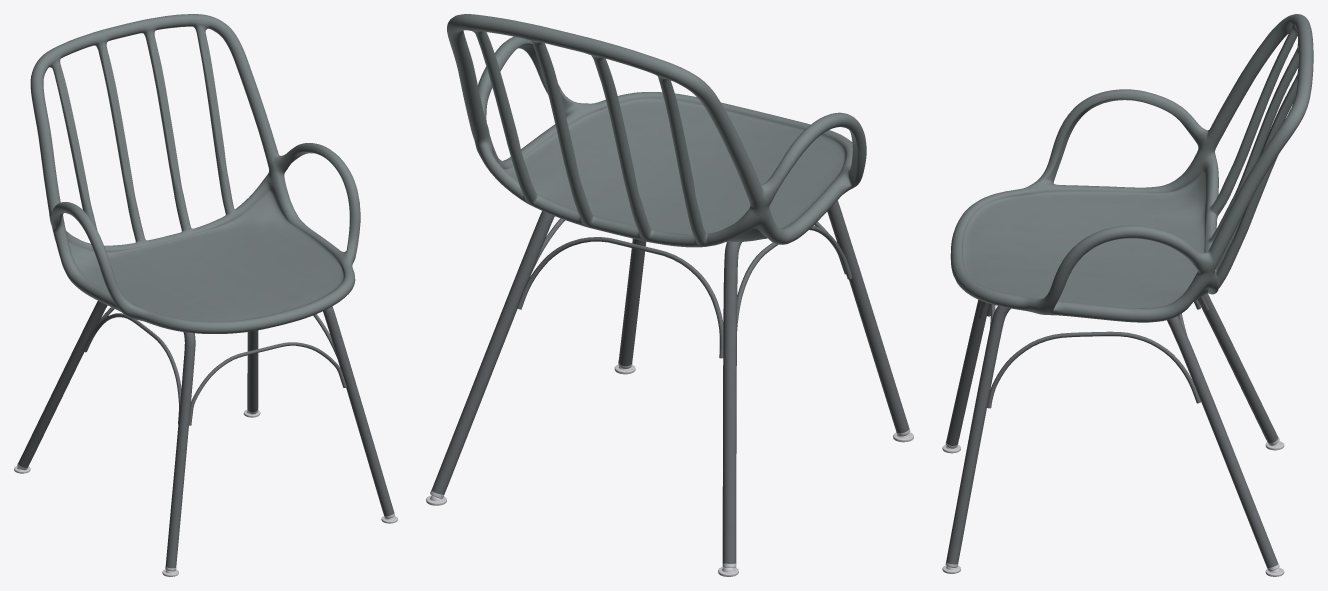
File: abo-B08554L385.glb
3 renders of one model, left to right at view 1: azimuth 30°, elevation 25°; view 2: azimuth 150°, elevation 25°; view 3: azimuth 270°, elevation 25°, orthographic. The views are drawn at different scales.
Size of the model in its own units: 0.549 by 0.816 by 0.5969.
1 material, 1 textured.
